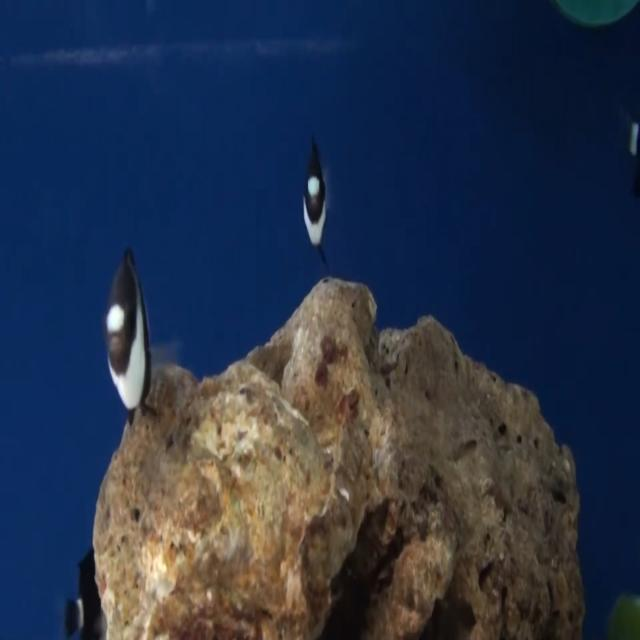ThreeStripedDamselfish: (105, 249, 159, 427), (303, 137, 329, 269)
